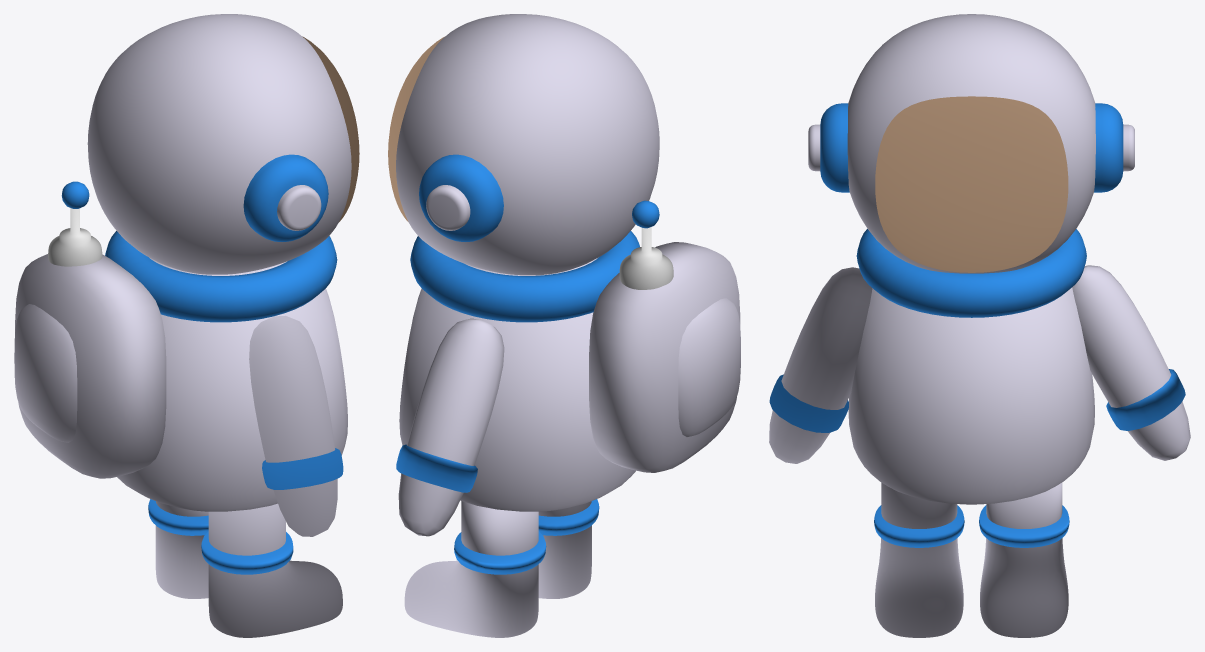
The model's file is astronout.fbx.
3 views of the same model, side by side, from view 1: azimuth 30°, elevation 25°; view 2: azimuth 150°, elevation 25°; view 3: azimuth 270°, elevation 25° (orthographic).
Parts seen in each view (by area): view 1: Head, Body, Bag, Legs, Hands.001, Torus, Cube.008, Cylinder.001, Cube.003, Cube.012, Cylinder, Glass (+2 smaller); view 2: Head, Body, Bag, Legs, Hands, Torus, Cube.008, Cylinder.001, Cube.003, Cube.005, Cylinder, Glass (+2 smaller); view 3: Body, Glass, Head, Legs, Torus, Hands, Hands.001, Cylinder.001, Cube.003, Cube.005, Cube.012, Cylinder.002.
Boxes of the visible parts, <box> form: Head: <box>87,14,351,274</box>; Body: <box>117,257,347,511</box>; Bag: <box>15,254,166,478</box>; Legs: <box>155,501,342,637</box>; Hands.001: <box>249,315,337,536</box>; Torus: <box>105,231,337,322</box>; Cube.008: <box>14,304,77,442</box>; Cylinder.001: <box>243,154,328,241</box>; Cube.003: <box>148,499,293,574</box>; Cube.012: <box>262,448,343,489</box>; Cylinder: <box>48,208,102,266</box>; Glass: <box>302,36,359,221</box>; Head: <box>396,14,659,275</box>; Body: <box>399,258,635,511</box>; Bag: <box>589,242,740,472</box>; Legs: <box>404,501,591,637</box>; Hands: <box>398,318,504,536</box>; Torus: <box>410,231,639,322</box>; Cube.008: <box>678,298,740,436</box>; Cylinder.001: <box>419,154,503,241</box>; Cube.003: <box>454,499,599,574</box>; Cube.005: <box>396,444,477,492</box>; Cylinder: <box>619,227,673,289</box>; Glass: <box>388,36,444,221</box>; Body: <box>848,287,1094,504</box>; Glass: <box>875,96,1068,272</box>; Head: <box>847,14,1095,273</box>; Legs: <box>875,482,1068,637</box>; Torus: <box>856,229,1086,317</box>; Hands: <box>1072,265,1190,460</box>; Hands.001: <box>769,267,872,463</box>; Cylinder.001: <box>820,103,1123,192</box>; Cube.003: <box>874,505,1069,547</box>; Cube.005: <box>1106,369,1185,430</box>; Cube.012: <box>769,374,848,432</box>; Cylinder.002: <box>808,124,1134,171</box>.
Bounding box in the file's own units: 197 × 356 × 238.
